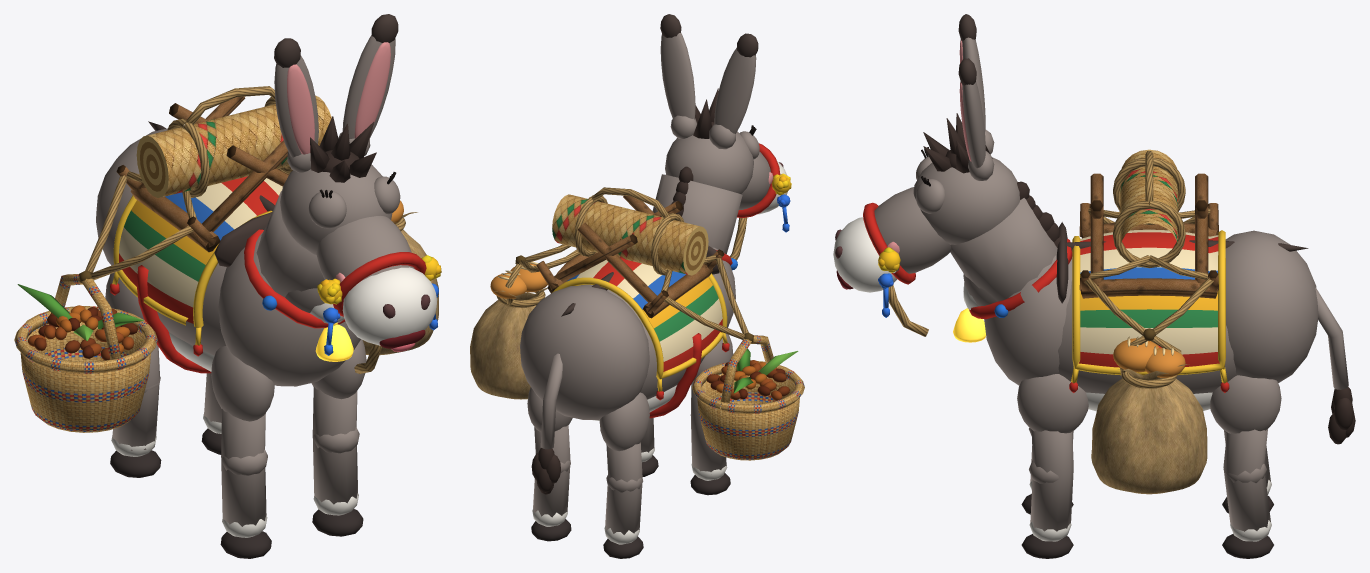
Rendered from donkey-pack.glb.
3 views of the same model, side by side, from view 1: azimuth 30°, elevation 25°; view 2: azimuth 150°, elevation 25°; view 3: azimuth 270°, elevation 25° (orthographic). The views are drawn at different scales.
Parts seen in each view (by area): view 1: donkey.head, donkey.body, l1.basket.weave, donkey.blanket, donkey.leg1, donkey.leg0, l2.mat.weave, donkey.saddle, donkey.ear0, donkey.leg3, donkey.ear1, l1.basket.dates (+11 smaller); view 2: donkey.body, l1.basket.weave, donkey.blanket, donkey.head, donkey.leg3, l2.mat.weave, l3.sack.cloth, donkey.saddle, donkey.leg2, donkey.ear0, donkey.ear1, donkey.leg1 (+12 smaller); view 3: donkey.body, donkey.head, donkey.blanket, l3.sack.cloth, donkey.leg0, donkey.leg2, donkey.saddle, l2.mat.rope, l2.mat.weave, donkey.tail, donkey.ear1, l3.sack.loaves (+7 smaller).
Part boxes in pixels (x1,y1,x2,y2): donkey.head: (280, 116, 441, 355); donkey.body: (96, 121, 360, 386); l1.basket.weave: (14, 274, 157, 432); donkey.blanket: (110, 176, 282, 356); donkey.leg1: (211, 346, 274, 558); donkey.leg0: (311, 339, 366, 536); l2.mat.weave: (147, 95, 331, 196); donkey.saddle: (116, 96, 289, 252); donkey.ear0: (274, 38, 318, 172); donkey.leg3: (105, 272, 161, 477); donkey.ear1: (338, 14, 398, 156); l1.basket.dates: (28, 305, 137, 360); donkey.body: (520, 166, 742, 420); l1.basket.weave: (692, 335, 804, 460); donkey.blanket: (552, 258, 729, 400); donkey.head: (665, 88, 791, 232); donkey.leg3: (599, 392, 649, 558); l2.mat.weave: (552, 194, 699, 274); l3.sack.cloth: (470, 288, 547, 399); donkey.saddle: (536, 195, 724, 318); donkey.leg2: (527, 387, 572, 541); donkey.ear0: (709, 33, 758, 149); donkey.ear1: (660, 14, 696, 138); donkey.leg1: (690, 333, 733, 495); donkey.body: (950, 181, 1318, 411); donkey.head: (833, 113, 1020, 317); donkey.blanket: (1069, 229, 1229, 392); l3.sack.cloth: (1091, 364, 1207, 494); donkey.leg0: (1017, 374, 1088, 558); donkey.leg2: (1210, 375, 1281, 558); donkey.saddle: (1079, 173, 1218, 298); l2.mat.rope: (1113, 151, 1185, 268); l2.mat.weave: (1120, 149, 1178, 247); donkey.tail: (1315, 287, 1355, 444); donkey.ear1: (958, 58, 994, 180); l3.sack.loaves: (1113, 336, 1185, 377).
Bounding box in the file's own units: 3.51 × 4.54 × 4.31.
13 materials, 5 textured.
